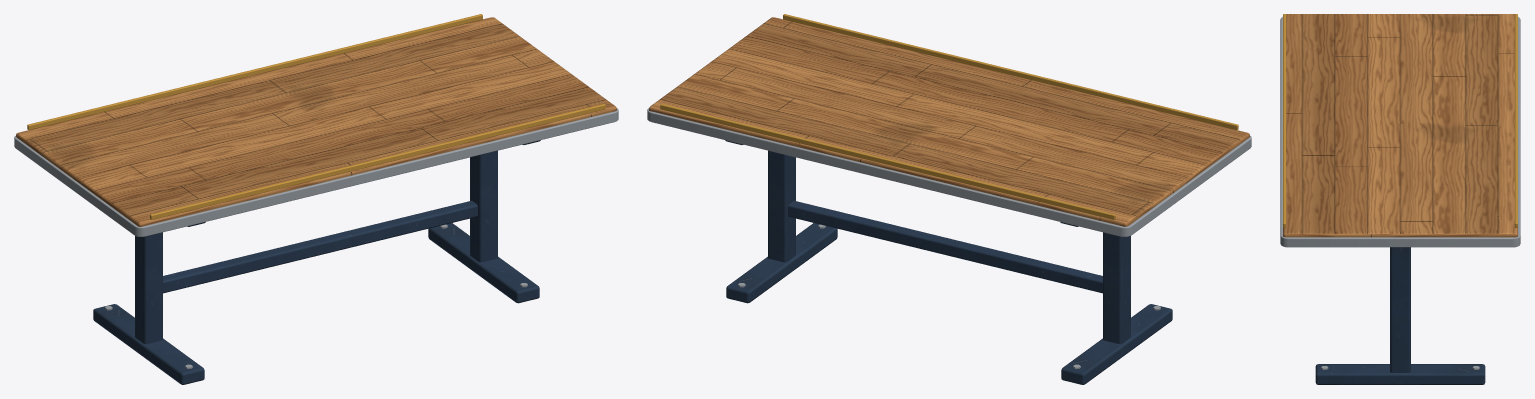
The model's file is MessTable.glb.
3 views of the same model, side by side, from view 1: azimuth 30°, elevation 25°; view 2: azimuth 150°, elevation 25°; view 3: azimuth 270°, elevation 25° (orthographic). The views are drawn at different scales.
Visible parts, largest first — view 1: MessTable_Body; view 2: MessTable_Body; view 3: MessTable_Body.
Boxes of the visible parts, left/top/right/bottom form: MessTable_Body: left=14, top=14, right=618, bottom=384; MessTable_Body: left=647, top=14, right=1251, bottom=384; MessTable_Body: left=1280, top=14, right=1520, bottom=384.
Size of the model in its own units: 2.02 by 0.78 by 0.92.
Materials: 4 (2 with a texture image).
